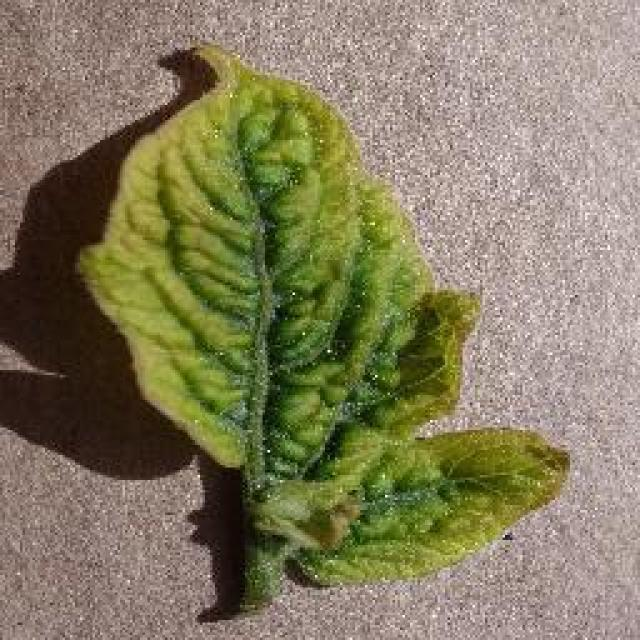Tomato yellow virus leaf: (71, 44, 464, 501), (275, 428, 570, 588)
